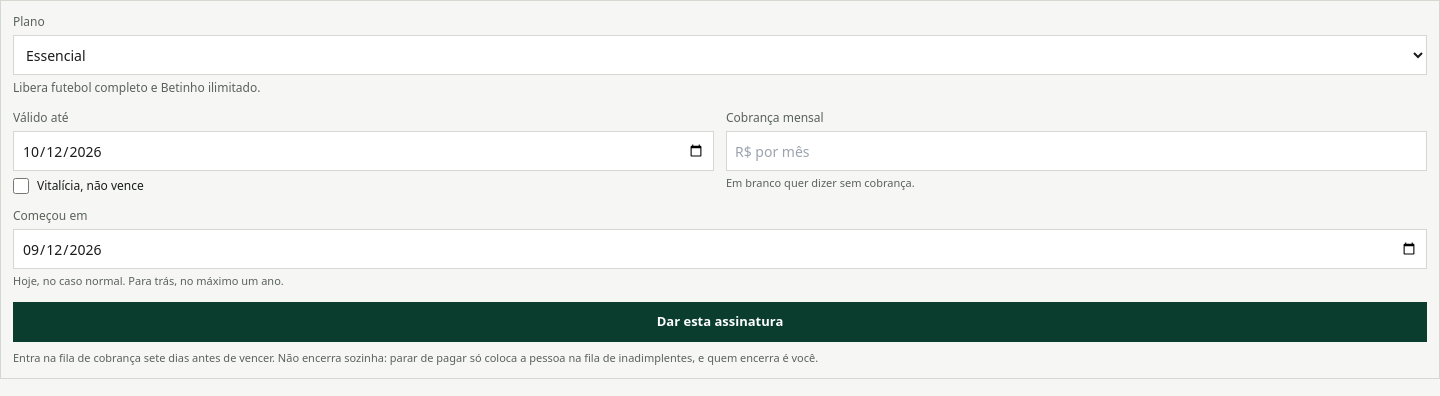
Test: vitalícia › desmarcar devolve a data que estava digitada
Click the checkbox named "Assinatura vitalícia" at coordinates (21, 186), box [13,178,29,194]
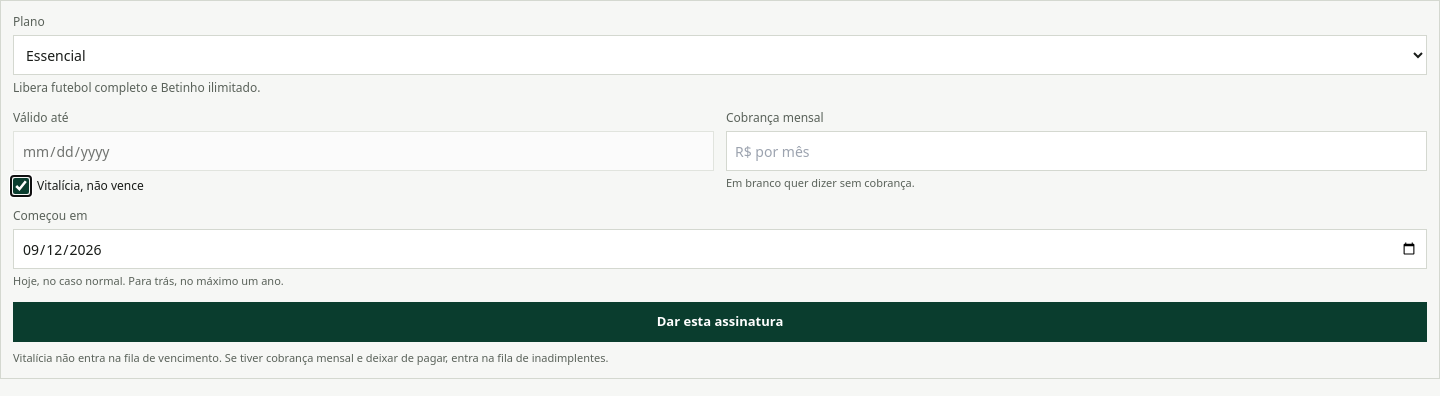
Click the checkbox named "Assinatura vitalícia" at coordinates (21, 186), box [13,178,29,194]
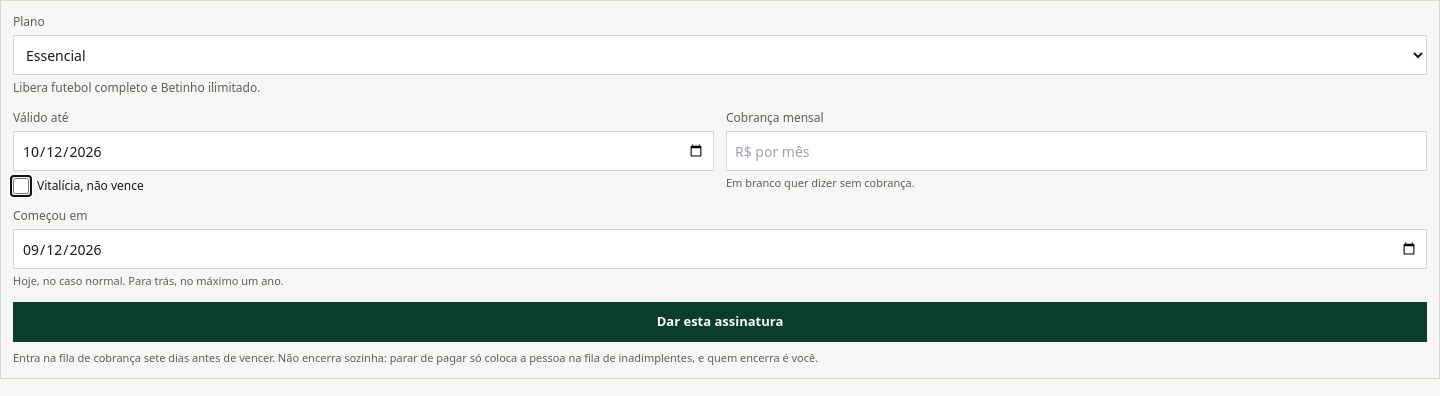
Expected: the date field named "Assinatura manual válida até" holds "2026-10-12", [13,131,714,171]
